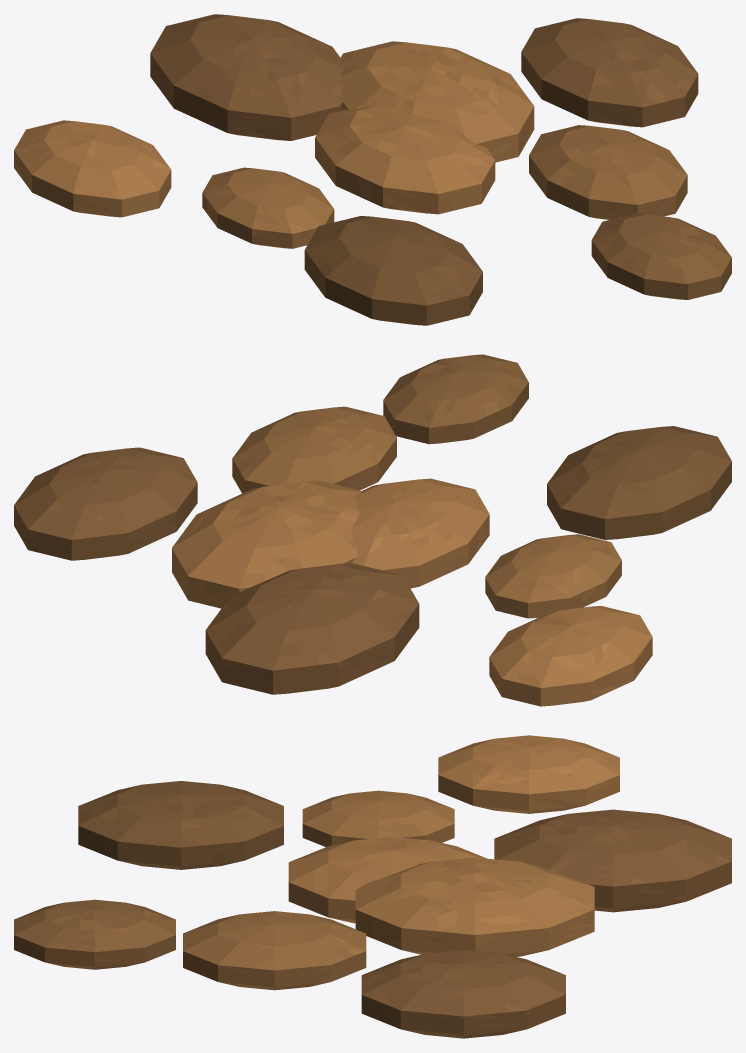
File: seed_watermelon.glb
3 renders of one model, top to bottom at view 1: azimuth 30°, elevation 25°; view 2: azimuth 150°, elevation 25°; view 3: azimuth 270°, elevation 25°, orthographic. The views are drawn at different scales.
Parts seen in each view (by area): view 1: block_grain 4, block_grain 5, block_grain 6, block_grain 0, block_grain 1, block_grain 7, block_grain 3, block_grain 8, block_grain 2; view 2: block_grain 4, block_grain 5, block_grain 1, block_grain 6, block_grain 7, block_grain 0, block_grain 3, block_grain 8, block_grain 2; view 3: block_grain 1, block_grain 4, block_grain 5, block_grain 6, block_grain 3, block_grain 7, block_grain 8, block_grain 0, block_grain 2.
Boxes of the visible parts, box(x1,y1,x2,y2) form: block_grain 4: box(150, 14, 342, 140); block_grain 5: box(304, 216, 482, 325); block_grain 6: box(521, 18, 698, 127); block_grain 0: box(315, 105, 495, 214); block_grain 1: box(340, 41, 534, 162); block_grain 7: box(14, 120, 171, 217); block_grain 3: box(529, 125, 687, 219); block_grain 8: box(591, 213, 731, 299); block_grain 2: box(202, 167, 334, 248); block_grain 4: box(205, 563, 419, 694); block_grain 5: box(547, 426, 731, 539); block_grain 1: box(172, 480, 362, 608); block_grain 6: box(14, 447, 197, 560); block_grain 7: box(489, 606, 652, 706); block_grain 0: box(351, 478, 489, 588); block_grain 3: box(232, 406, 396, 493); block_grain 8: box(383, 354, 528, 444); block_grain 2: box(485, 534, 621, 618); block_grain 1: box(355, 857, 594, 956); block_grain 4: box(494, 809, 731, 912); block_grain 5: box(78, 781, 283, 869); block_grain 6: box(361, 950, 565, 1038); block_grain 3: box(183, 911, 366, 990); block_grain 7: box(438, 735, 619, 813); block_grain 8: box(14, 899, 175, 969); block_grain 0: box(288, 837, 486, 923); block_grain 2: box(302, 790, 454, 846).
Bounding box in the file's own units: 0.0205 × 0.00242 × 0.022.
1 material, 1 textured.
